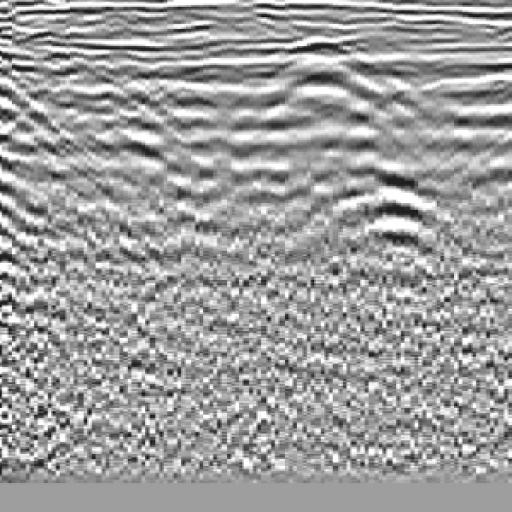metalic: (299, 140, 482, 300)
